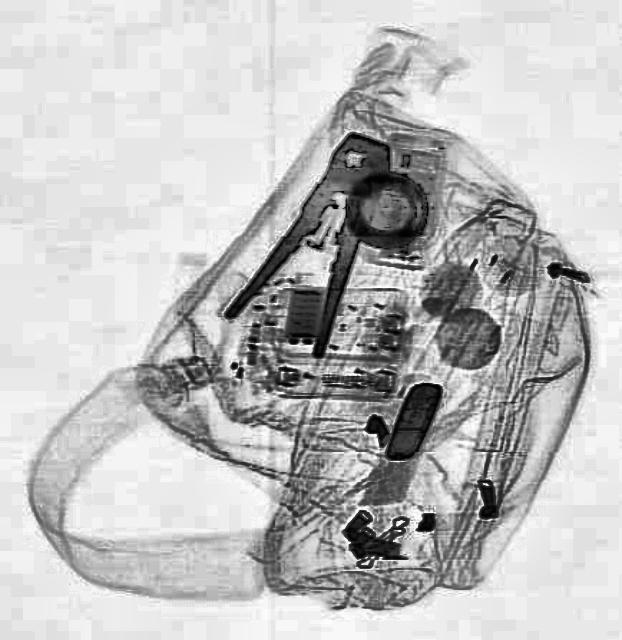Pliers: (220, 115, 418, 358)
